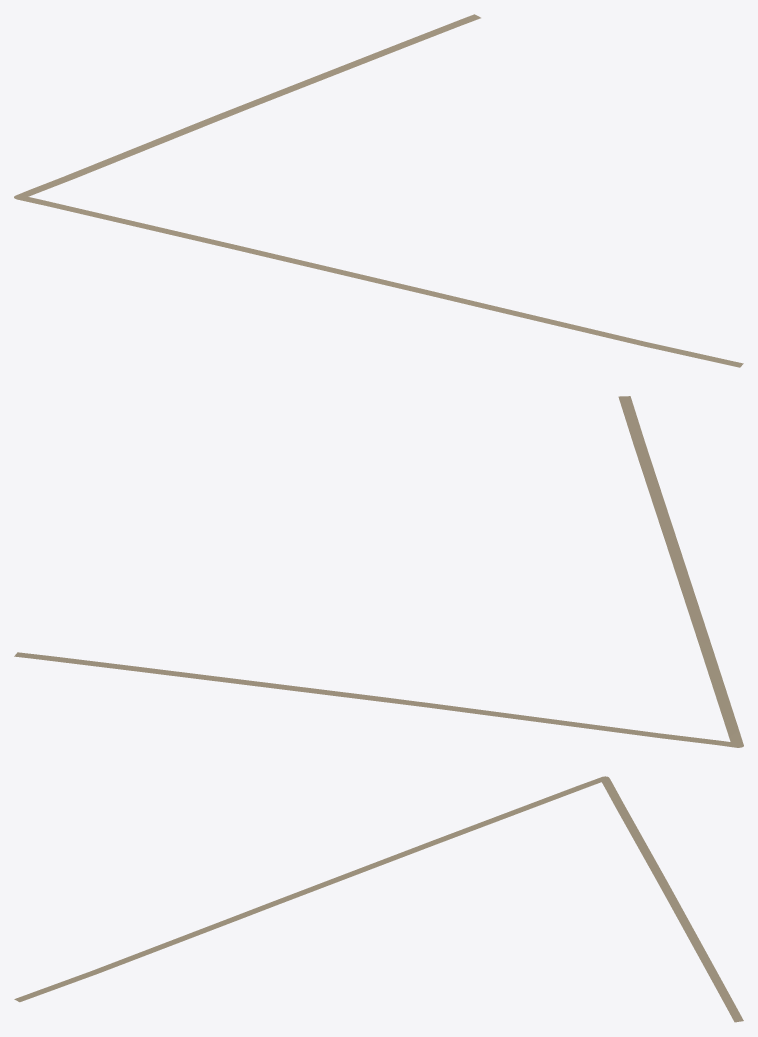
File: farm_39_34_track.glb
3 views of the same model, one above another, from view 1: azimuth 30°, elevation 25°; view 2: azimuth 150°, elevation 25°; view 3: azimuth 270°, elevation 25° (orthographic). The views are drawn at different scales.
Visible parts, largest first — view 1: geometry_0; view 2: geometry_0; view 3: geometry_0.
Part boxes in pixels (x1,y1,x2,y2): geometry_0: [14, 14, 743, 367]; geometry_0: [14, 396, 743, 747]; geometry_0: [14, 776, 743, 1022].
Bounding box in the file's own units: 197 × 13.75 × 249.
